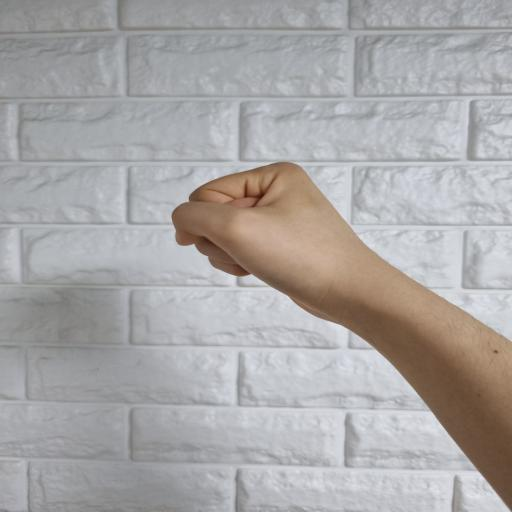Rock: (170, 162, 378, 320)
